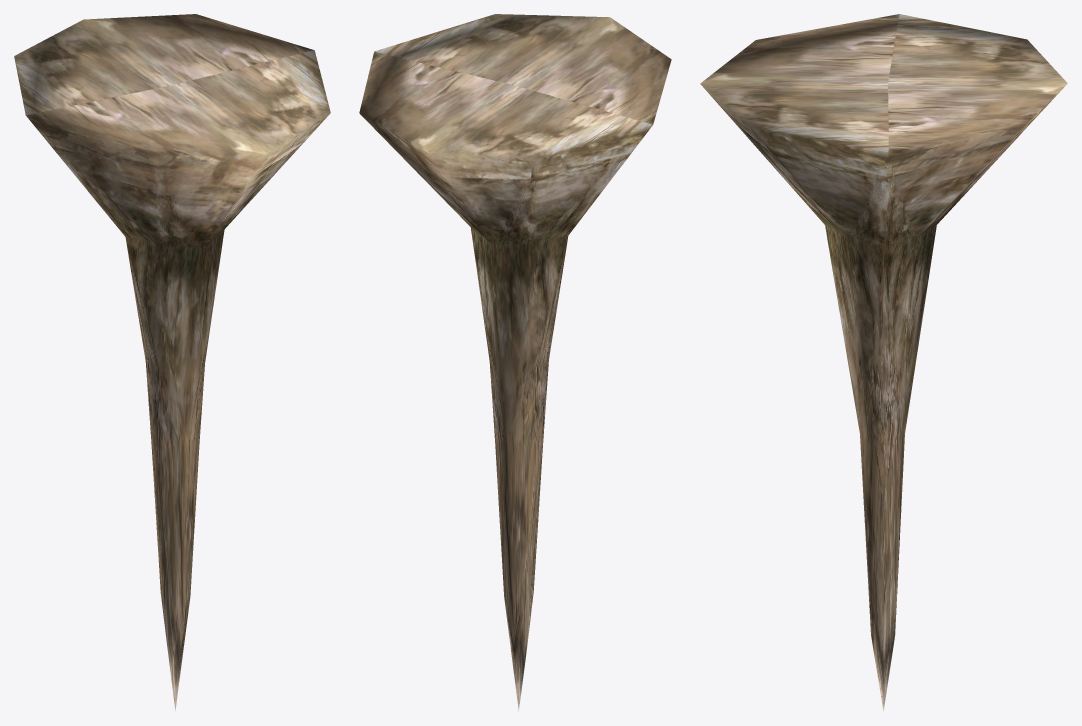
The model's file is thm_all_cave_stalagtite_a3_l1.fbx.
The picture shows the model from 3 angles, left to right: view 1: azimuth 30°, elevation 25°; view 2: azimuth 150°, elevation 25°; view 3: azimuth 270°, elevation 25°; orthographic projection.
Visible parts, largest first — view 1: mesh_node; view 2: mesh_node; view 3: mesh_node.
Boxes of the visible parts, box(x1,y1,x2,y2) form: mesh_node: box(14, 14, 330, 711); mesh_node: box(359, 14, 671, 711); mesh_node: box(700, 14, 1067, 710).
Bounding box in the file's own units: 1.23 × 2.58 × 1.37.
